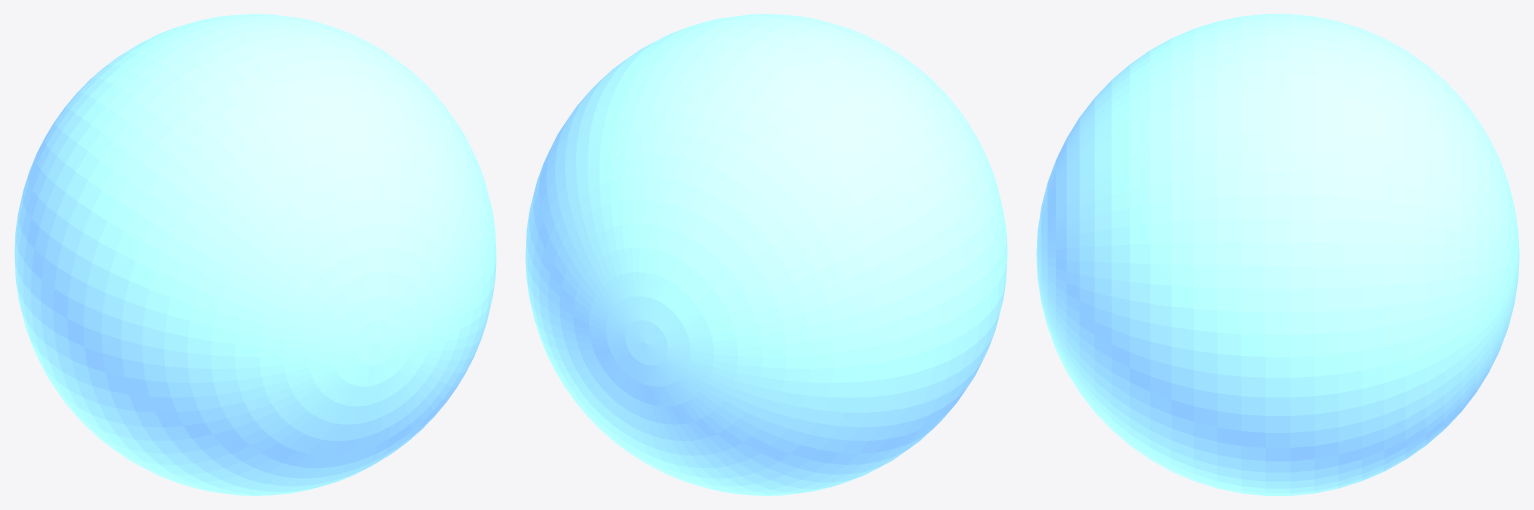
File: wb_globe.glb
3 views of the same model, side by side, from view 1: azimuth 30°, elevation 25°; view 2: azimuth 150°, elevation 25°; view 3: azimuth 270°, elevation 25° (orthographic).
Visible parts, largest first — view 1: world; view 2: world; view 3: world.
Part boxes in pixels (box(x1,y1,x2,y2)): world: box(14, 14, 496, 495); world: box(525, 14, 1007, 495); world: box(1036, 14, 1519, 495).
Bounding box in the file's own units: 2 × 2 × 2.
